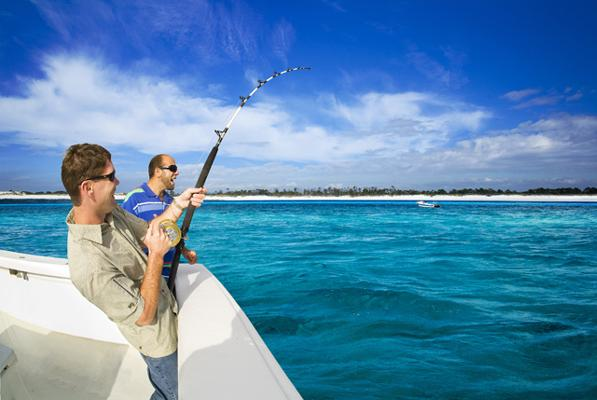person: (62, 144, 206, 400)
